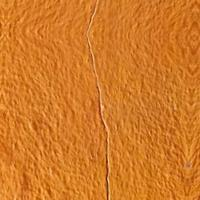crack: (84, 105, 135, 199)
